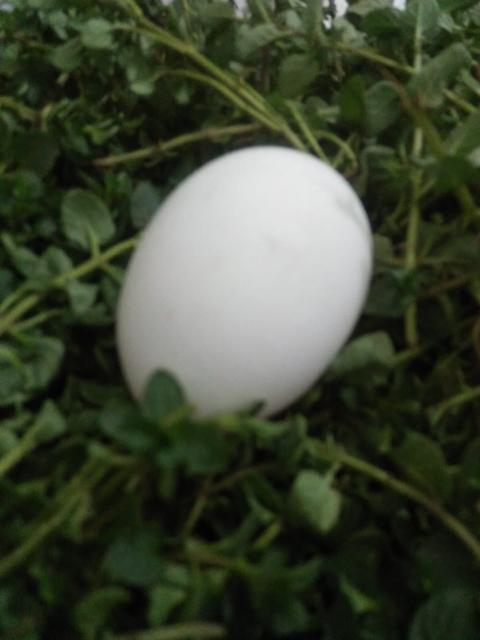Sano: (114, 143, 374, 422)
